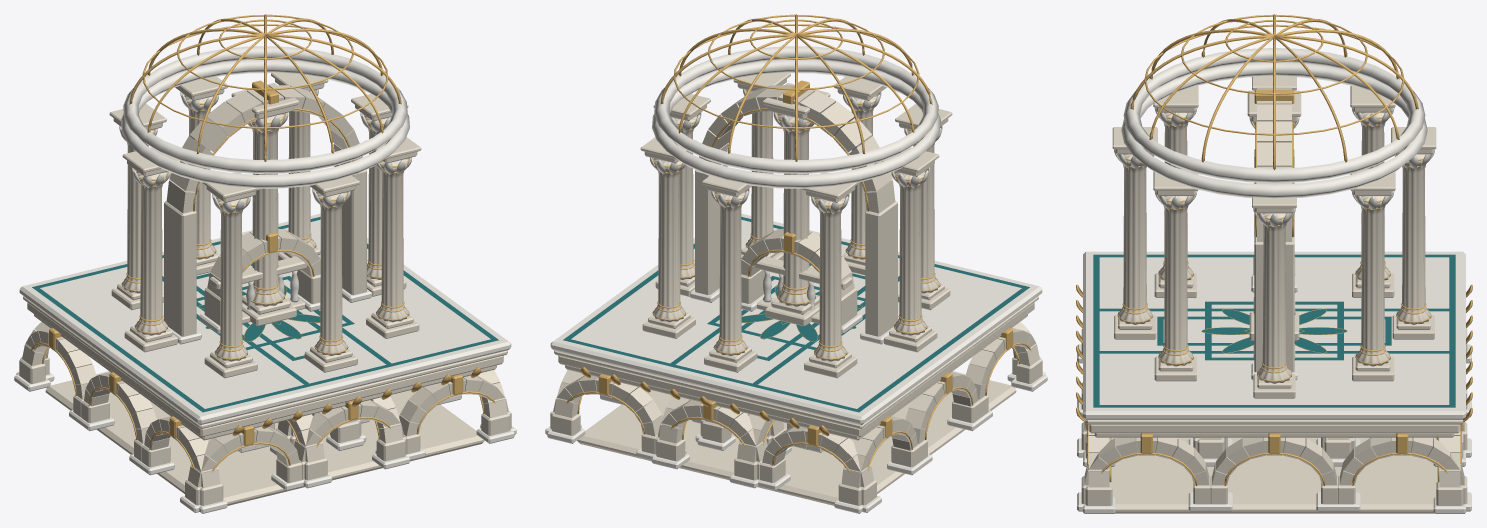
The model's file is platform-kit.glb.
The picture shows the model from 3 angles, left to right: view 1: azimuth 30°, elevation 25°; view 2: azimuth 150°, elevation 25°; view 3: azimuth 270°, elevation 25°; orthographic projection. The views are drawn at different scales.
Visible parts, largest first — view 1: museum_rotunda_museum_limestone, platform_terrace_museum_limestone, platform_terrace_museum_ivory, museum_rotunda_museum_ivory, museum_arch_museum_limestone, museum_rotunda_museum_brass, platform_bridge_museum_limestone, museum_column_museum_limestone, platform_bridge_museum_ivory, platform_terrace_museum_petrol, platform_terrace_museum_brass, museum_arcade_bay_museum_limestone (+5 smaller); view 2: museum_rotunda_museum_limestone, platform_terrace_museum_limestone, platform_terrace_museum_ivory, museum_rotunda_museum_ivory, museum_arch_museum_limestone, museum_rotunda_museum_brass, platform_bridge_museum_limestone, museum_column_museum_limestone, platform_bridge_museum_ivory, platform_terrace_museum_petrol, platform_terrace_museum_brass, museum_arcade_bay_museum_limestone (+6 smaller); view 3: platform_terrace_museum_ivory, platform_terrace_museum_limestone, museum_rotunda_museum_limestone, museum_rotunda_museum_ivory, museum_rotunda_museum_brass, platform_terrace_museum_petrol, museum_arch_museum_limestone, platform_terrace_museum_brass, platform_bridge_museum_petrol, platform_island_museum_petrol, platform_ledge_museum_petrol, platform_island_museum_limestone (+6 smaller).
Boxes of the visible parts, x1,y1,x2,y2 form: museum_rotunda_museum_limestone: [109, 72, 421, 378]; platform_terrace_museum_limestone: [19, 296, 511, 505]; platform_terrace_museum_ivory: [14, 213, 516, 513]; museum_rotunda_museum_ivory: [119, 46, 411, 213]; museum_arch_museum_limestone: [164, 85, 366, 336]; museum_rotunda_museum_brass: [122, 14, 409, 359]; platform_bridge_museum_limestone: [269, 376, 406, 480]; museum_column_museum_limestone: [231, 83, 299, 326]; platform_bridge_museum_ivory: [162, 238, 410, 488]; platform_terrace_museum_petrol: [32, 217, 498, 412]; platform_terrace_museum_brass: [30, 286, 495, 472]; museum_arcade_bay_museum_limestone: [204, 228, 320, 325]; museum_rotunda_museum_limestone: [640, 72, 952, 378]; platform_terrace_museum_limestone: [550, 296, 1042, 505]; platform_terrace_museum_ivory: [545, 213, 1047, 513]; museum_rotunda_museum_ivory: [650, 46, 942, 213]; museum_arch_museum_limestone: [695, 85, 897, 336]; museum_rotunda_museum_brass: [652, 14, 939, 359]; platform_bridge_museum_limestone: [655, 376, 792, 480]; museum_column_museum_limestone: [762, 83, 830, 326]; platform_bridge_museum_ivory: [650, 238, 899, 488]; platform_terrace_museum_petrol: [563, 217, 1029, 412]; platform_terrace_museum_brass: [566, 286, 1031, 472]; museum_arcade_bay_museum_limestone: [741, 228, 857, 325]; platform_terrace_museum_ivory: [1077, 251, 1471, 513]; platform_terrace_museum_limestone: [1081, 328, 1467, 513]; museum_rotunda_museum_limestone: [1112, 75, 1436, 398]; museum_rotunda_museum_ivory: [1114, 48, 1434, 227]; museum_rotunda_museum_brass: [1117, 14, 1431, 381]; platform_terrace_museum_petrol: [1093, 254, 1455, 407]; museum_arch_museum_limestone: [1254, 87, 1294, 372]; platform_terrace_museum_brass: [1076, 284, 1472, 485]; platform_bridge_museum_petrol: [1093, 308, 1455, 353]; platform_island_museum_petrol: [1205, 301, 1343, 360]; platform_ledge_museum_petrol: [1157, 316, 1391, 345]; platform_island_museum_limestone: [1193, 437, 1355, 458].
Bounding box in the file's own units: 3.4 × 3.9 × 3.42.
